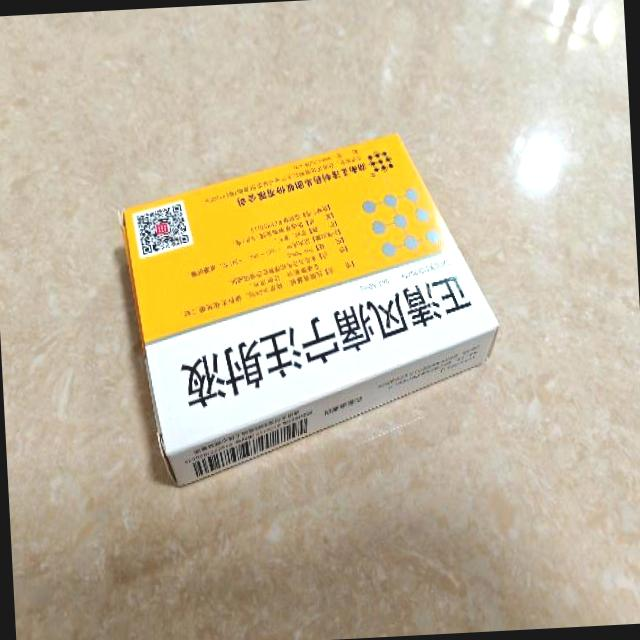box: (118, 130, 505, 490)
